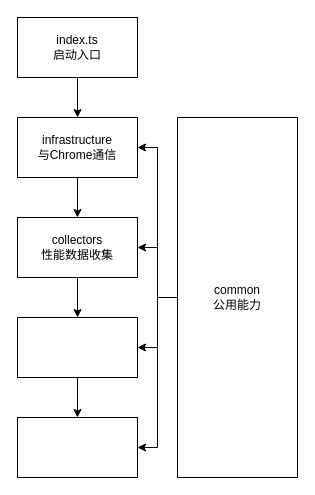
Some shapes in this 315 by 495 pixel diagram are drawn without their labels. Here are the shapes that lost their labels. From the top down, the box of each, then its label:
(16, 316, 138, 378): analysis 数据分析处理
(16, 416, 138, 478): reportor 输出报告
